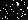person: (12, 4, 19, 16)
